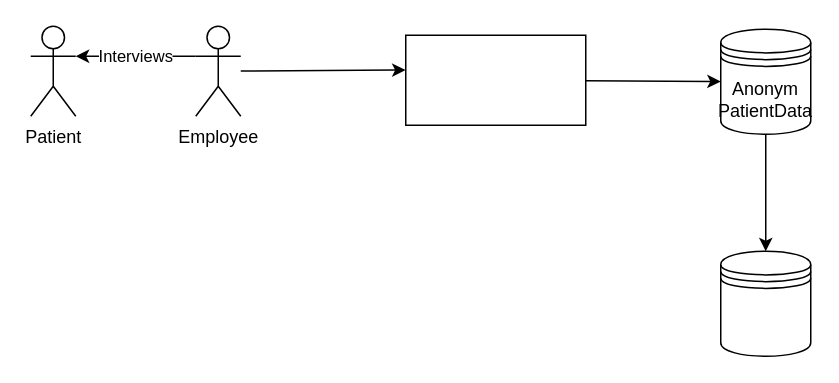
Image size: 839x383. Some labels were removed from this diagram. The shapes that lost their labels are listed below. From the top down, each one's centre as x and y in pixels, then its label:
(495,79): AirtecWebservice
(765,303): Identify PatientData
